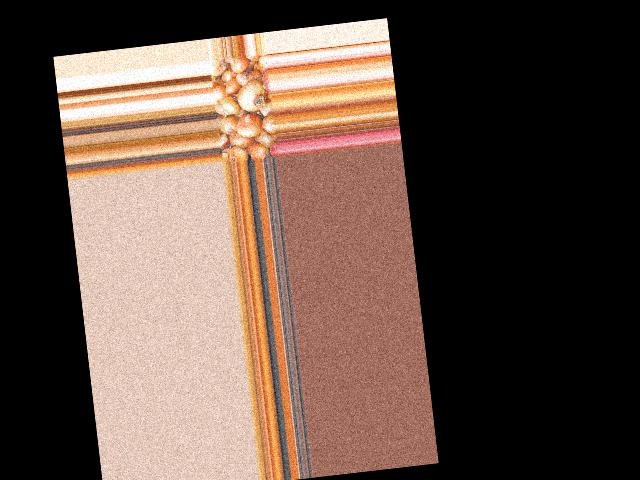onion: (219, 115, 240, 136)
